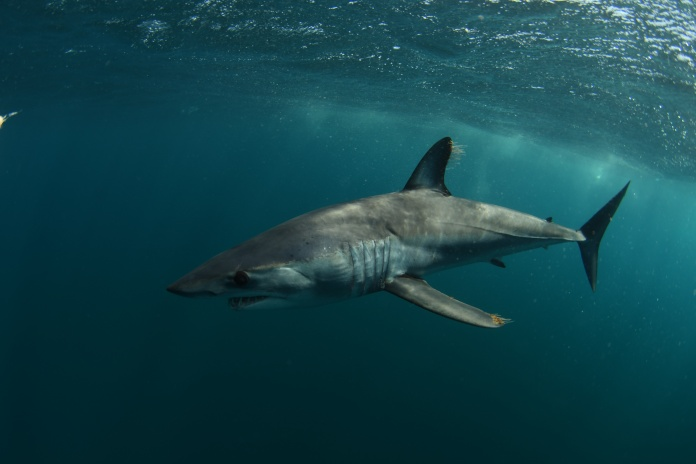Mako: (141, 132, 647, 337)
